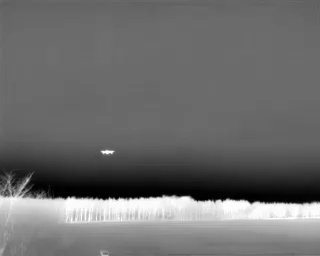DRONE: (96, 145, 119, 161)
